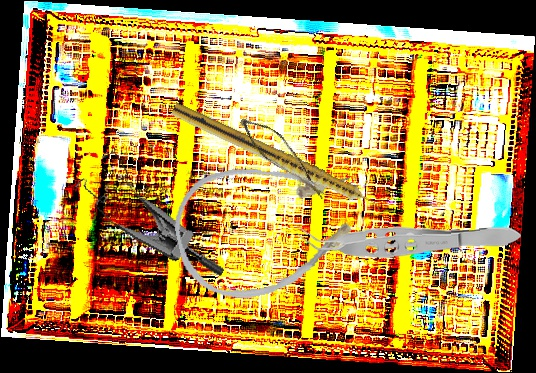Cannula: (164, 144, 372, 311)
Handpiece: (168, 101, 386, 217)
Micro Scissor: (228, 112, 342, 201)
Speculum: (62, 141, 250, 280)
Tissue Forceps: (294, 217, 522, 261)
